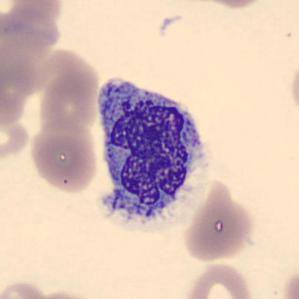Monocyte: (92, 70, 214, 238)
RBC: (180, 180, 258, 264), (28, 128, 100, 196), (36, 67, 100, 134), (182, 260, 256, 299), (0, 0, 65, 35), (0, 104, 32, 164), (0, 279, 51, 299), (189, 0, 271, 10), (34, 288, 102, 299), (288, 52, 299, 118), (281, 263, 299, 299)
